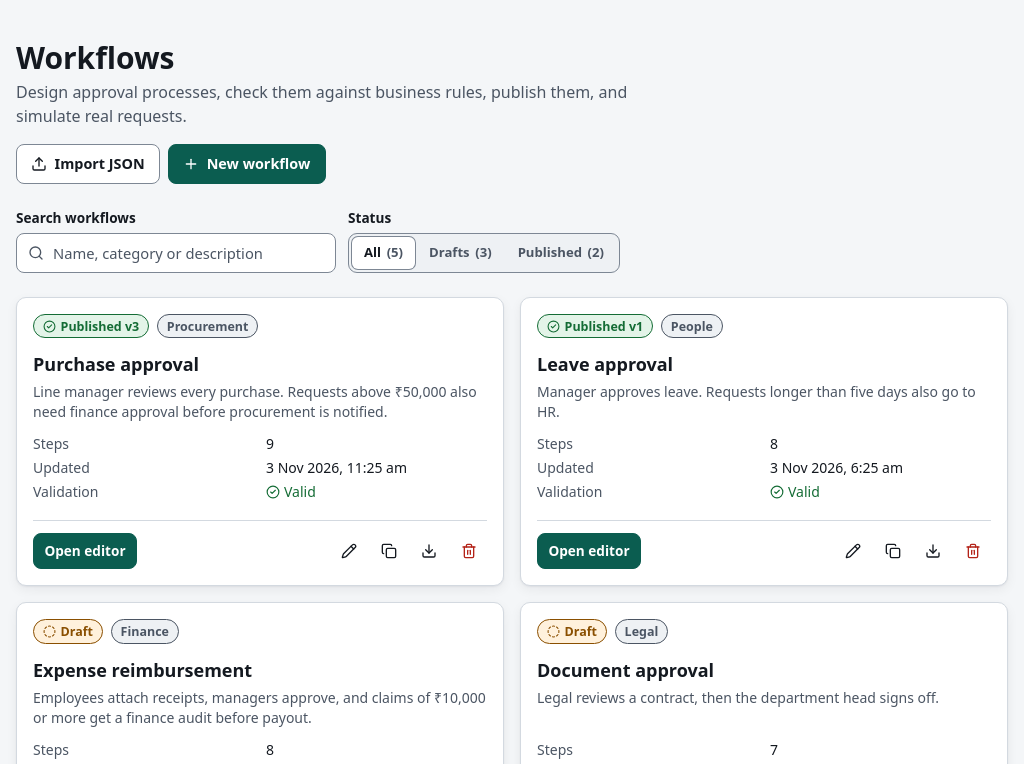
WorkflowsPage › filters by search text and status, with an empty state
The image size is (1024, 764).
In the search field labelled "Search workflows": (176, 253) [16,233,336,273], type "leave"
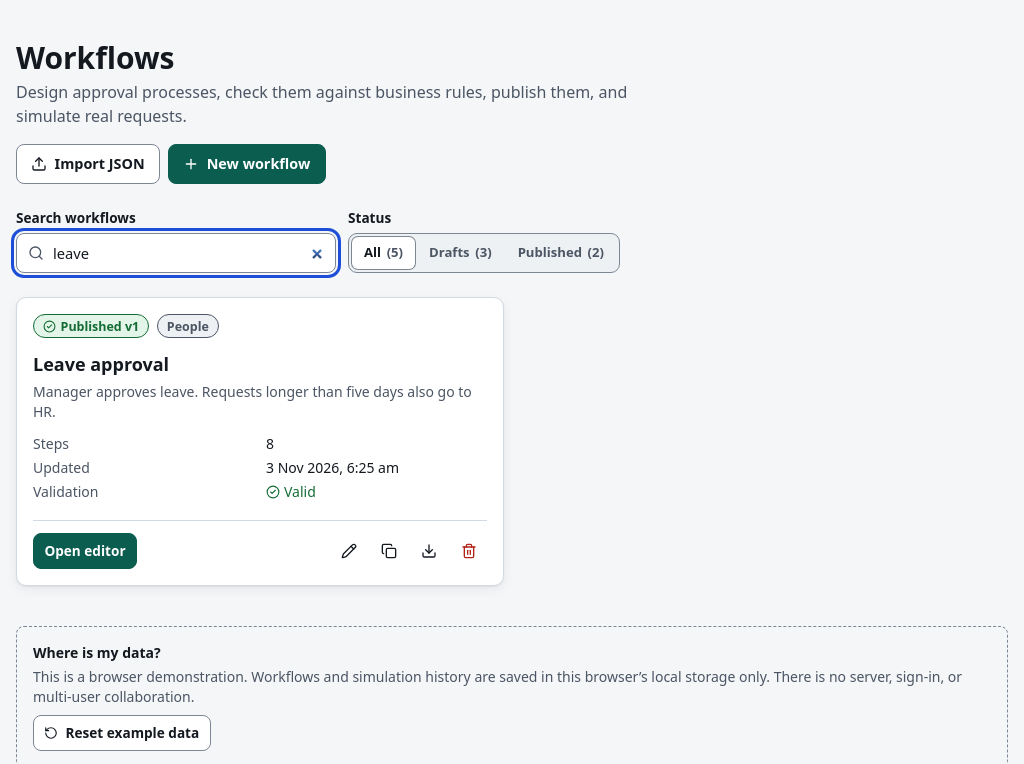
Expected: the number of list items is 1, [16,297,504,586]
Clear the search field labelled "Search workflows": (176, 253) [16,233,336,273]
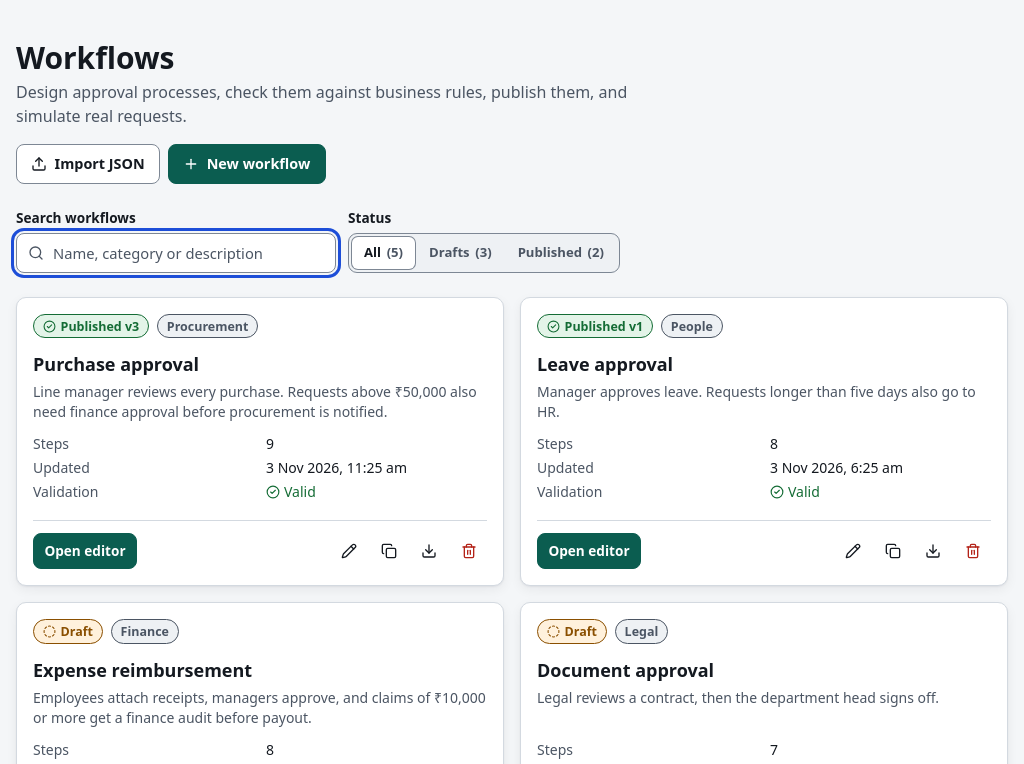
Click the radio button labelled "Published (2)": (561, 252) [518,243,604,261]
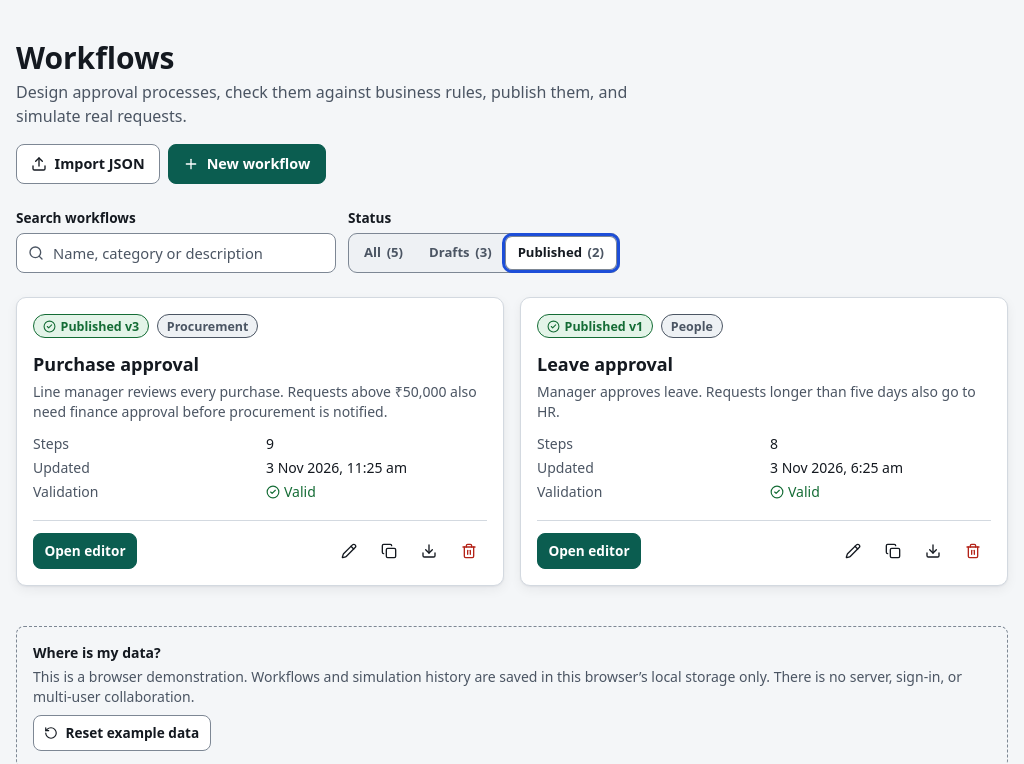
Expected: the number of list items is 2, [16,297,504,586]; [520,297,1008,586]
In the search field labelled "Search workflows": (176, 253) [16,233,336,273], type "zzz"
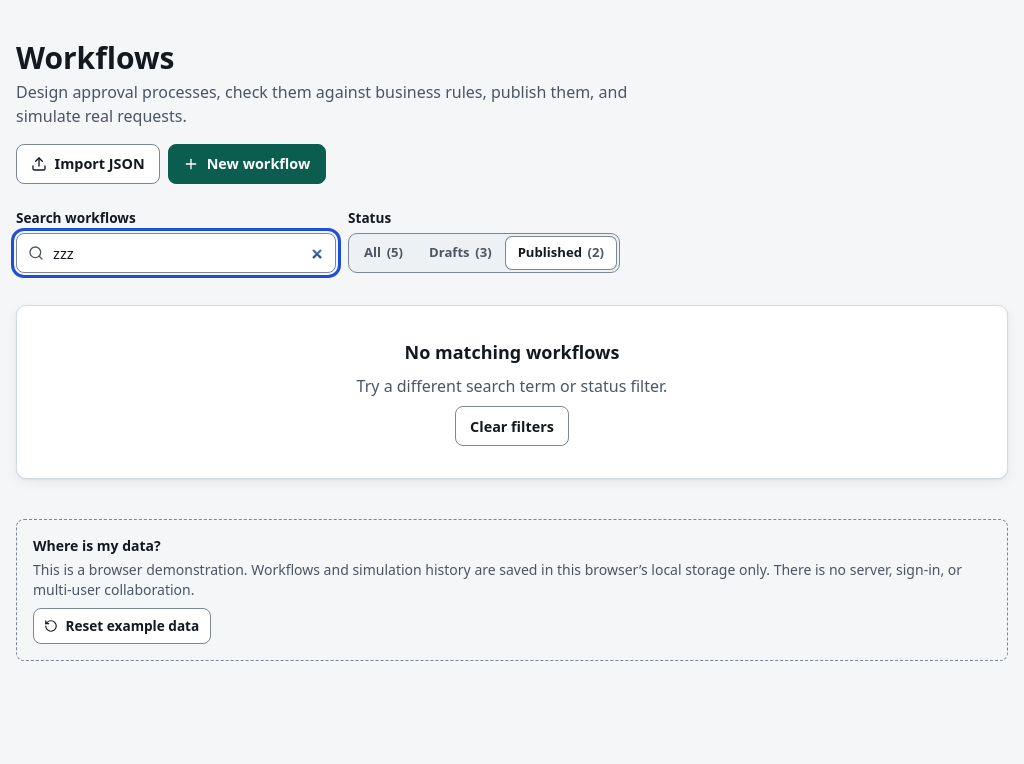
Expected: the heading "No matching workflows" is shown, [405,340,619,364]
Click the button "Clear filters": (512, 426) [455,406,569,446]
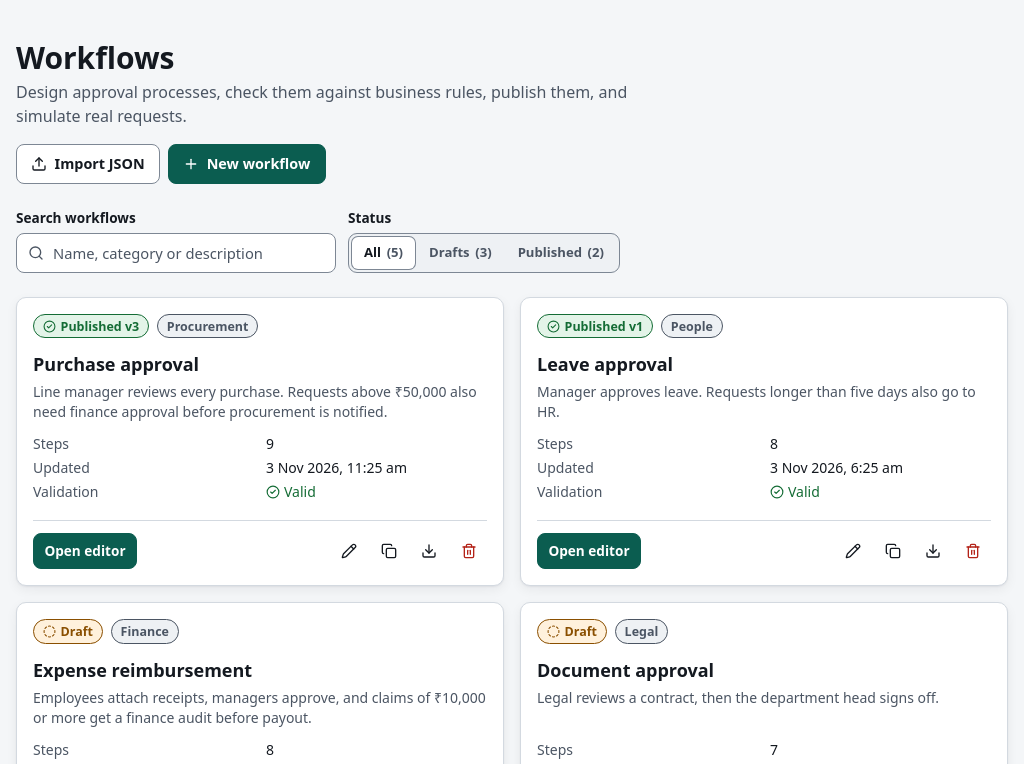
Expected: the number of list items is 5
